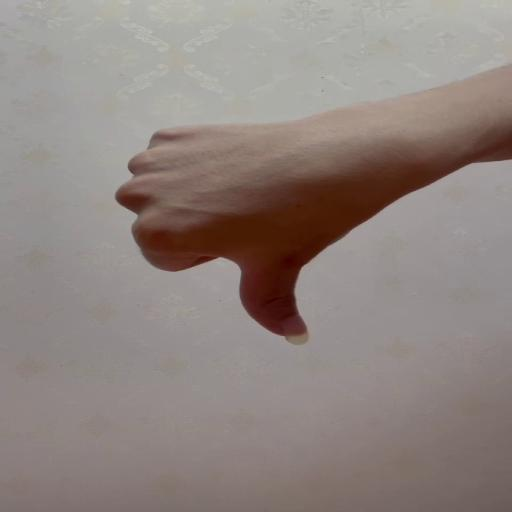thumbs_down: (114, 119, 445, 346)
